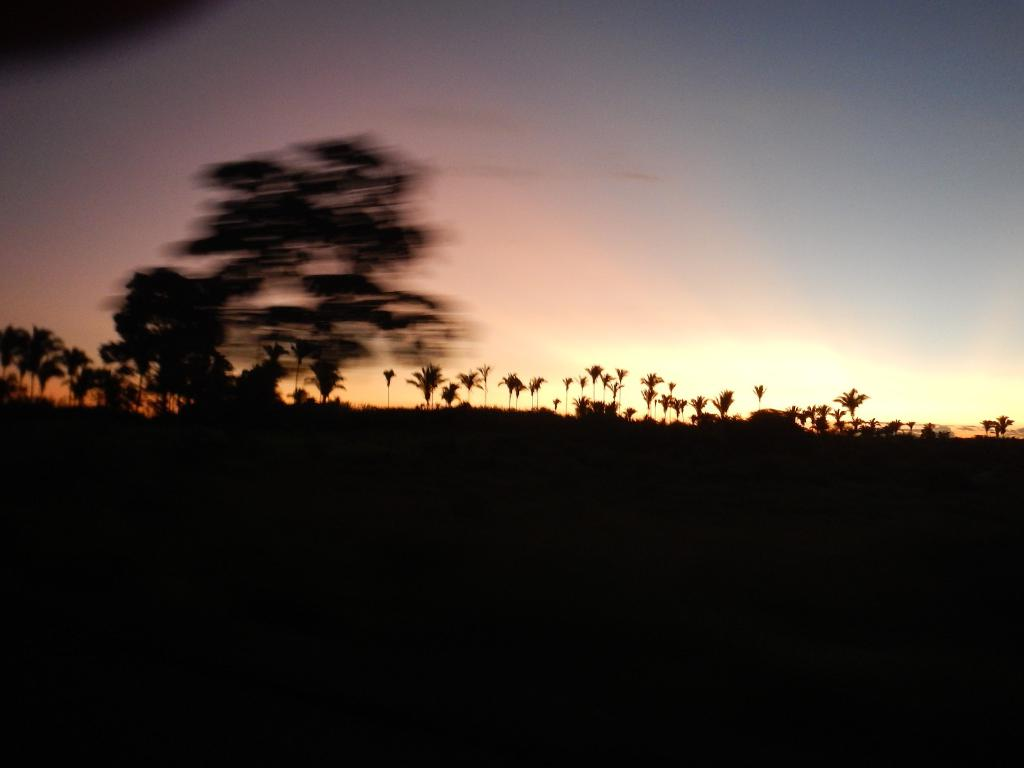Tree: (109, 140, 464, 415), (0, 325, 238, 428), (233, 362, 284, 415), (789, 400, 846, 435), (312, 351, 346, 401), (290, 336, 315, 399), (405, 362, 441, 404), (833, 383, 865, 423), (637, 373, 664, 420), (455, 367, 485, 401), (705, 385, 736, 416), (494, 373, 524, 405), (983, 411, 1011, 436), (529, 373, 548, 408), (613, 366, 625, 419), (597, 373, 614, 410), (668, 396, 693, 420), (664, 379, 679, 417), (264, 338, 285, 364), (560, 376, 574, 415), (586, 364, 600, 403), (604, 379, 620, 410), (865, 416, 885, 440), (921, 421, 944, 440), (476, 362, 487, 401), (883, 417, 903, 436), (642, 391, 655, 417), (383, 367, 392, 403), (689, 394, 704, 415), (574, 373, 584, 400), (901, 417, 915, 436), (444, 382, 455, 405), (752, 384, 764, 404), (513, 379, 519, 408), (847, 414, 856, 431), (552, 396, 561, 411), (626, 410, 635, 424)
